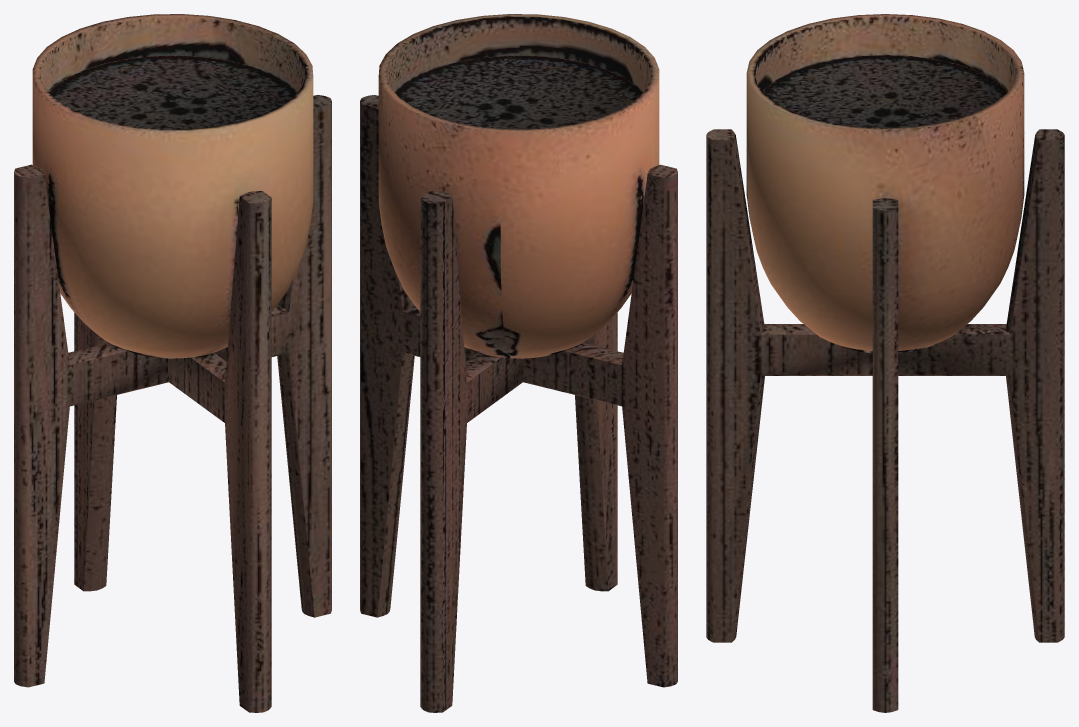
File: plantstand_r.glb
3 views of the same model, side by side, from view 1: azimuth 30°, elevation 25°; view 2: azimuth 150°, elevation 25°; view 3: azimuth 270°, elevation 25° (orthographic).
Parts seen in each view (by area): view 1: plant.stand_R; view 2: plant.stand_R; view 3: plant.stand_R.
Boxes of the visible parts, x1,y1,x2,y2 form: plant.stand_R: [14, 14, 331, 712]; plant.stand_R: [360, 14, 677, 712]; plant.stand_R: [706, 14, 1064, 712].
Size of the model in its own units: 0.4316 by 0.7499 by 0.4316.
Materials: 1 (1 with a texture image).
